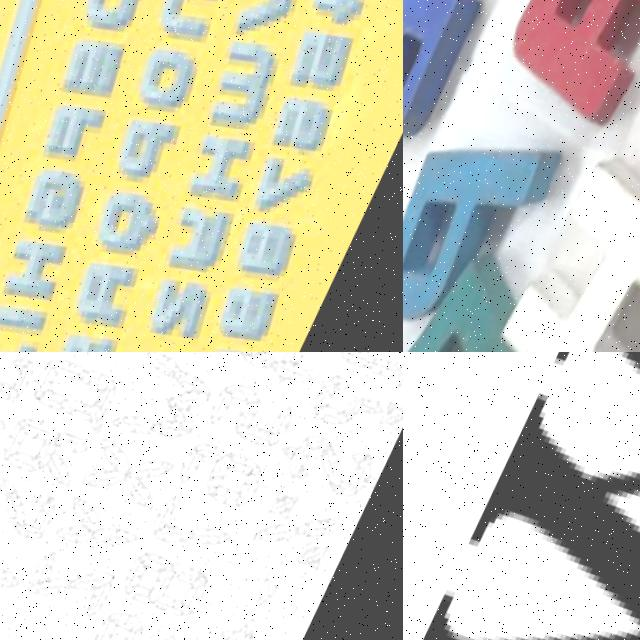0: (197, 343, 281, 352)
4: (229, 352, 342, 414)
5: (201, 381, 309, 473)
6: (170, 436, 278, 528)
7: (147, 495, 249, 576)
8: (118, 545, 225, 638)
9: (88, 609, 192, 640)
A: (490, 0, 640, 138)
B: (403, 0, 495, 163)
H: (482, 151, 640, 352)
P: (403, 105, 572, 352)
W: (403, 352, 640, 640)
